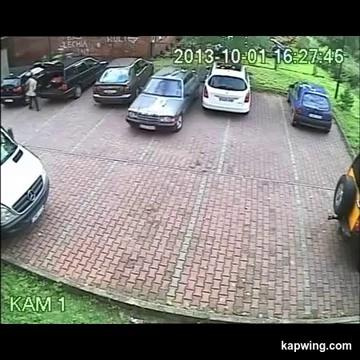car: (1, 126, 49, 237), (126, 66, 200, 131), (328, 153, 359, 270), (34, 55, 107, 99), (93, 57, 153, 104), (202, 62, 250, 113), (287, 81, 332, 132), (1, 65, 43, 105)
